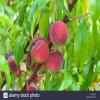Peach leaf: (30, 1, 56, 44), (74, 16, 88, 72), (0, 26, 18, 58), (79, 58, 95, 90), (0, 11, 16, 39), (0, 54, 11, 91), (39, 9, 53, 38), (58, 68, 72, 90), (44, 77, 53, 90)
